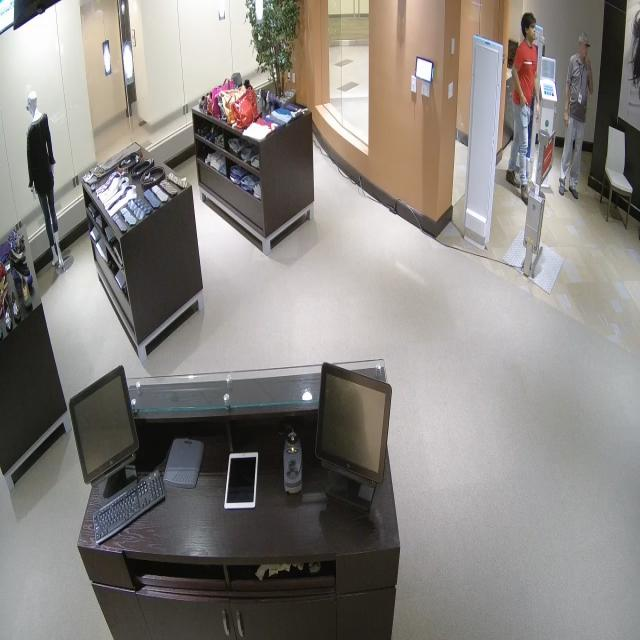normal: (559, 14, 592, 216), (509, 0, 538, 222)
